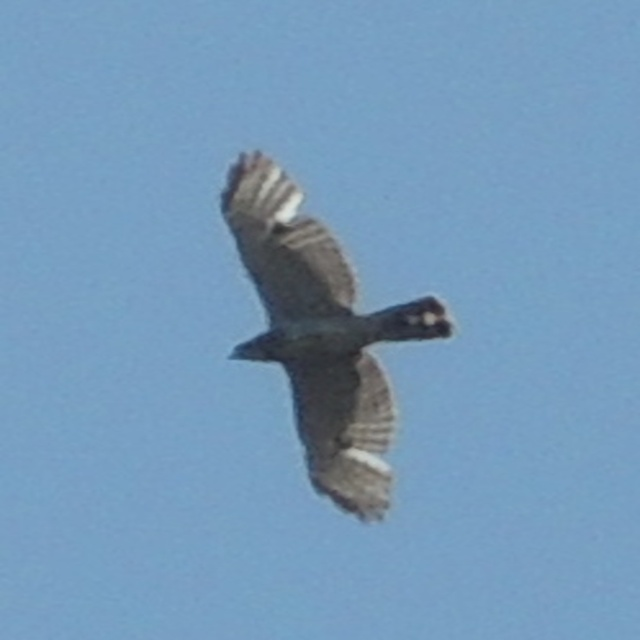Eagle: (220, 148, 454, 527)
